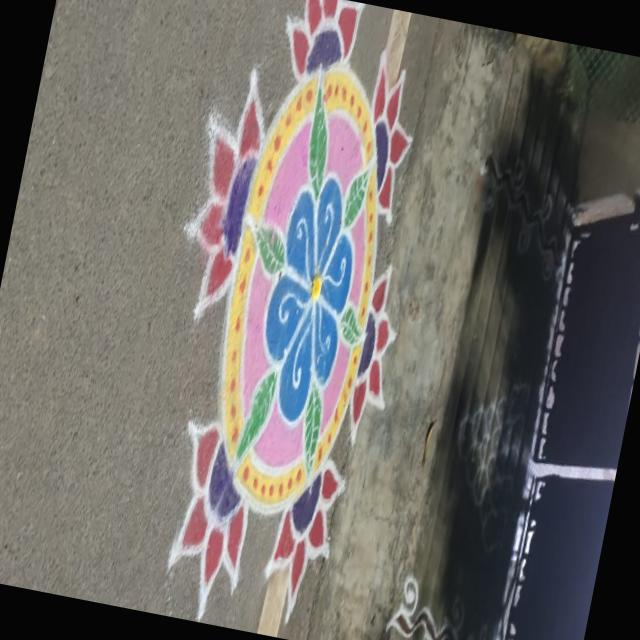rangoli: (114, 0, 464, 640)
